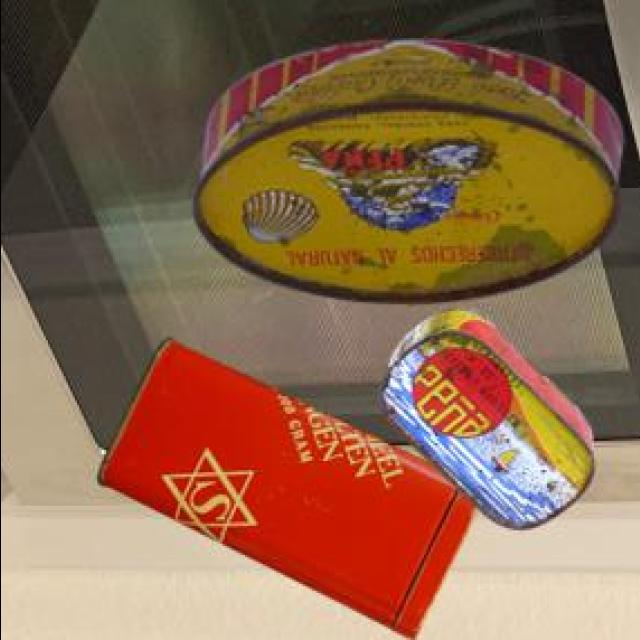logam: (100, 335, 480, 637), (196, 37, 625, 301), (382, 305, 596, 525)
